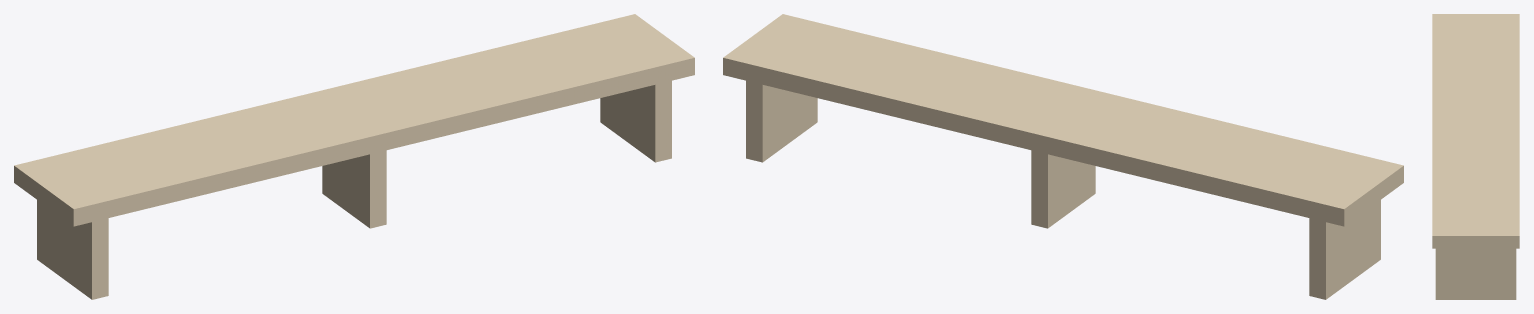
File: apple_bench_forum.glb
3 renders of one model, left to right at view 1: azimuth 30°, elevation 25°; view 2: azimuth 150°, elevation 25°; view 3: azimuth 270°, elevation 25°, orthographic. The views are drawn at different scales.
Visible parts, largest first — view 1: apple_bench_forum; view 2: apple_bench_forum; view 3: apple_bench_forum.
Boxes of the visible parts, x1,y1,x2,y2 form: apple_bench_forum: [14, 14, 694, 299]; apple_bench_forum: [723, 14, 1403, 299]; apple_bench_forum: [1432, 14, 1519, 299].
Size of the model in its own units: 3 by 0.45 by 0.5.
